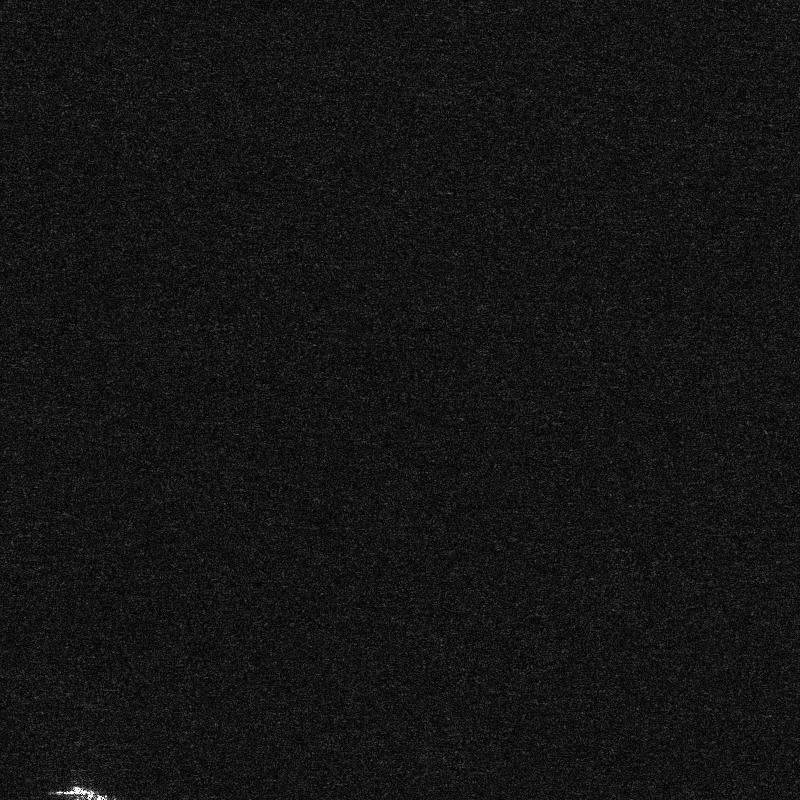ship: (55, 786, 118, 799)
